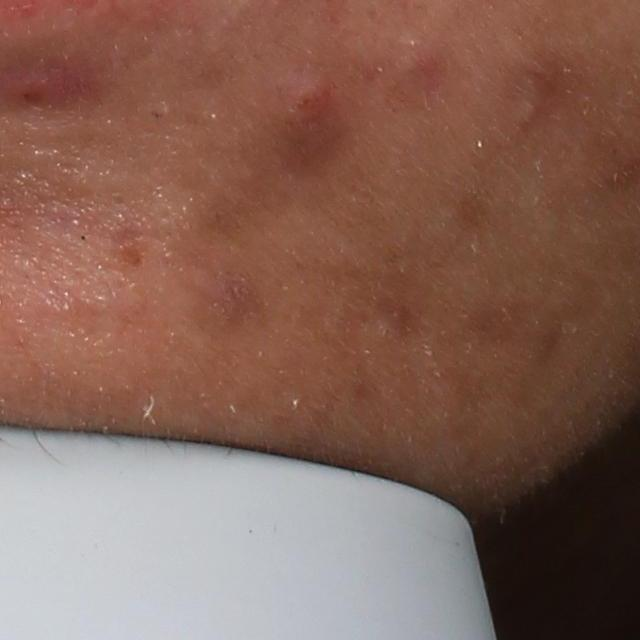comedo: (510, 97, 537, 126)
papule: (375, 26, 451, 114), (265, 69, 335, 150), (15, 68, 89, 103)
